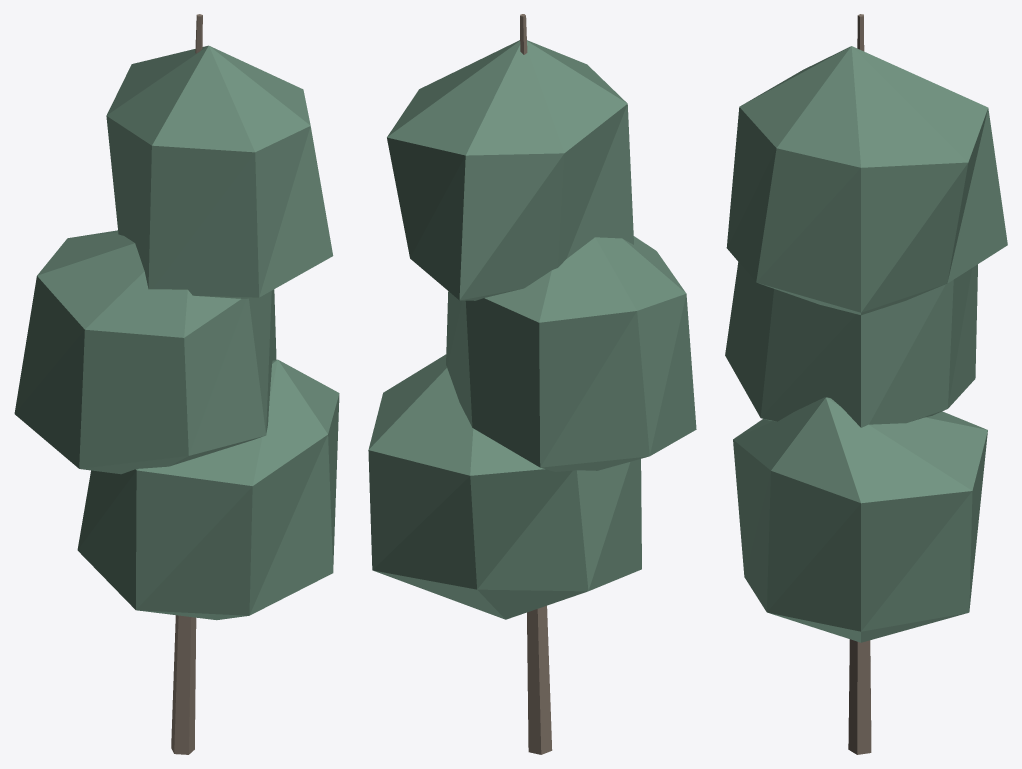
The picture shows the model from 3 angles, left to right: view 1: azimuth 30°, elevation 25°; view 2: azimuth 150°, elevation 25°; view 3: azimuth 270°, elevation 25°; orthographic projection.
Size of the model in its own units: 2.59 by 6.12 by 2.11.
